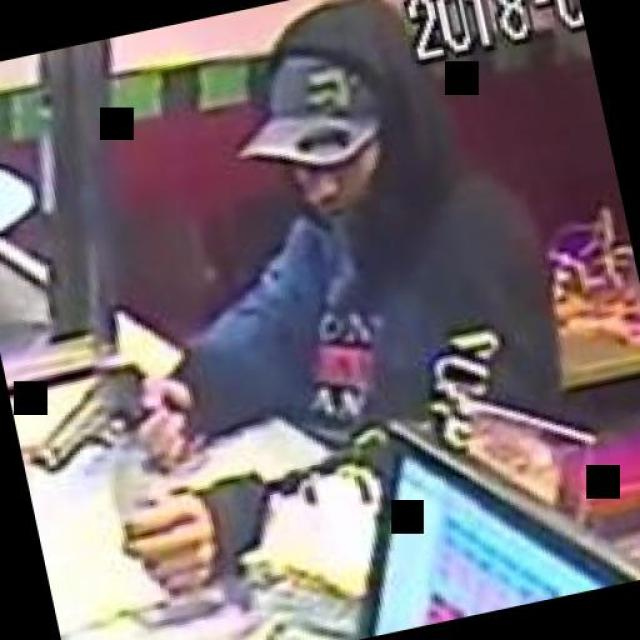gun: (5, 343, 194, 488)
